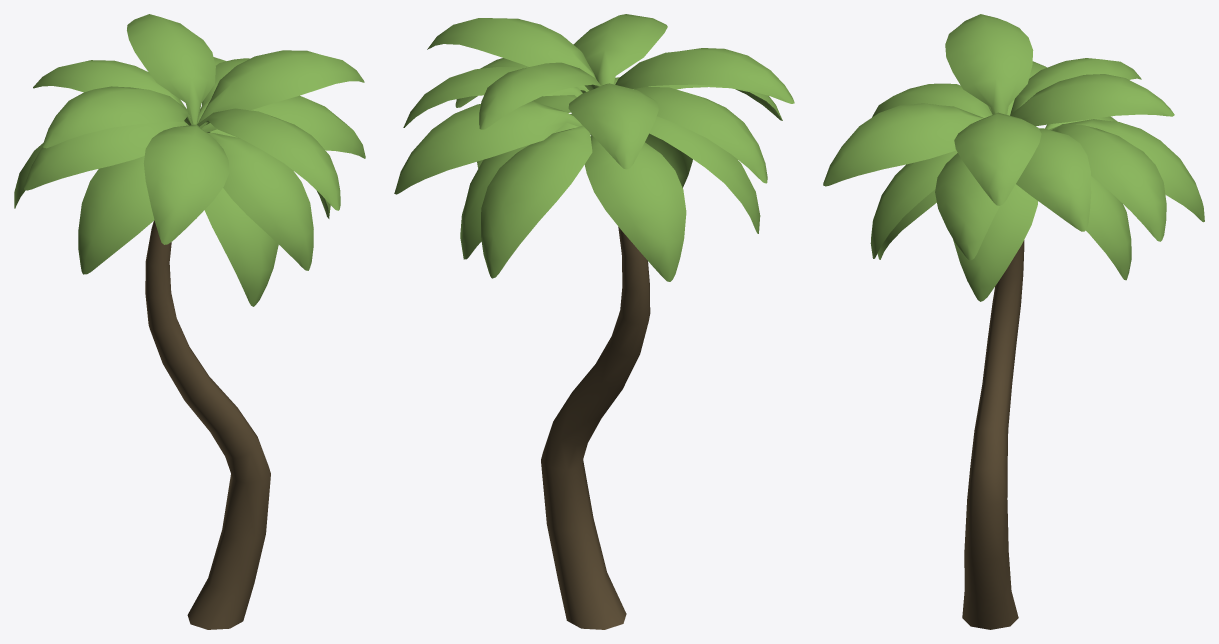
The model's file is PlamTree_2_fbx.FBX.
The picture shows the model from 3 angles, left to right: view 1: azimuth 30°, elevation 25°; view 2: azimuth 150°, elevation 25°; view 3: azimuth 270°, elevation 25°; orthographic projection. The views are drawn at different scales.
Parts seen in each view (by area): view 1: Plane001, Leaf010, Leaf011, Leaf017, Leaf009, Leaf014, Leaf015, Leaf016, Leaf008, Leaf003, Leaf012, Leaf013 (+1 smaller); view 2: Plane001, Leaf036, Leaf037, Leaf035, Leaf016, Leaf017, Leaf013, Leaf008, Leaf015, Leaf014, Leaf009, Leaf034 (+3 smaller); view 3: Plane001, Leaf015, Leaf016, Leaf035, Leaf014, Leaf017, Leaf034, Leaf002, Leaf012, Leaf011, Leaf036, Leaf001 (+3 smaller).
Boxes of the visible parts, bbox=[...] form: Plane001: bbox=[145, 220, 270, 629]; Leaf010: bbox=[143, 124, 229, 244]; Leaf011: bbox=[207, 133, 313, 270]; Leaf017: bbox=[197, 50, 364, 128]; Leaf009: bbox=[78, 156, 154, 274]; Leaf014: bbox=[127, 14, 215, 124]; Leaf015: bbox=[197, 108, 340, 210]; Leaf016: bbox=[42, 86, 193, 148]; Leaf008: bbox=[24, 121, 188, 190]; Leaf003: bbox=[204, 188, 278, 306]; Leaf012: bbox=[202, 95, 365, 158]; Leaf013: bbox=[33, 60, 190, 117]; Plane001: bbox=[541, 227, 650, 629]; Leaf036: bbox=[481, 125, 592, 278]; Leaf037: bbox=[584, 134, 686, 281]; Leaf035: bbox=[394, 101, 582, 194]; Leaf016: bbox=[615, 48, 794, 103]; Leaf017: bbox=[427, 18, 596, 79]; Leaf013: bbox=[568, 83, 658, 169]; Leaf008: bbox=[634, 86, 767, 183]; Leaf015: bbox=[573, 14, 667, 85]; Leaf014: bbox=[479, 62, 601, 129]; Leaf009: bbox=[649, 116, 760, 233]; Leaf034: bbox=[403, 67, 582, 127]; Plane001: bbox=[962, 240, 1024, 629]; Leaf015: bbox=[823, 103, 983, 186]; Leaf016: bbox=[945, 14, 1033, 114]; Leaf035: bbox=[1051, 124, 1166, 241]; Leaf014: bbox=[1011, 74, 1174, 126]; Leaf017: bbox=[954, 112, 1041, 205]; Leaf034: bbox=[1016, 128, 1091, 231]; Leaf002: bbox=[953, 184, 1037, 301]; Leaf012: bbox=[935, 153, 999, 260]; Leaf011: bbox=[870, 150, 957, 258]; Leaf036: bbox=[1049, 119, 1204, 222]; Leaf001: bbox=[1086, 176, 1131, 280].
Size of the model in its own units: 354 by 360 by 563.
